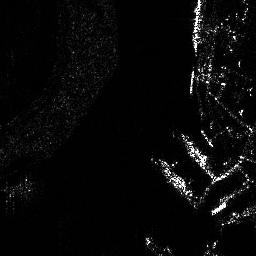ship: (158, 160, 196, 199), (181, 133, 209, 168), (192, 1, 203, 54), (211, 199, 226, 216)
